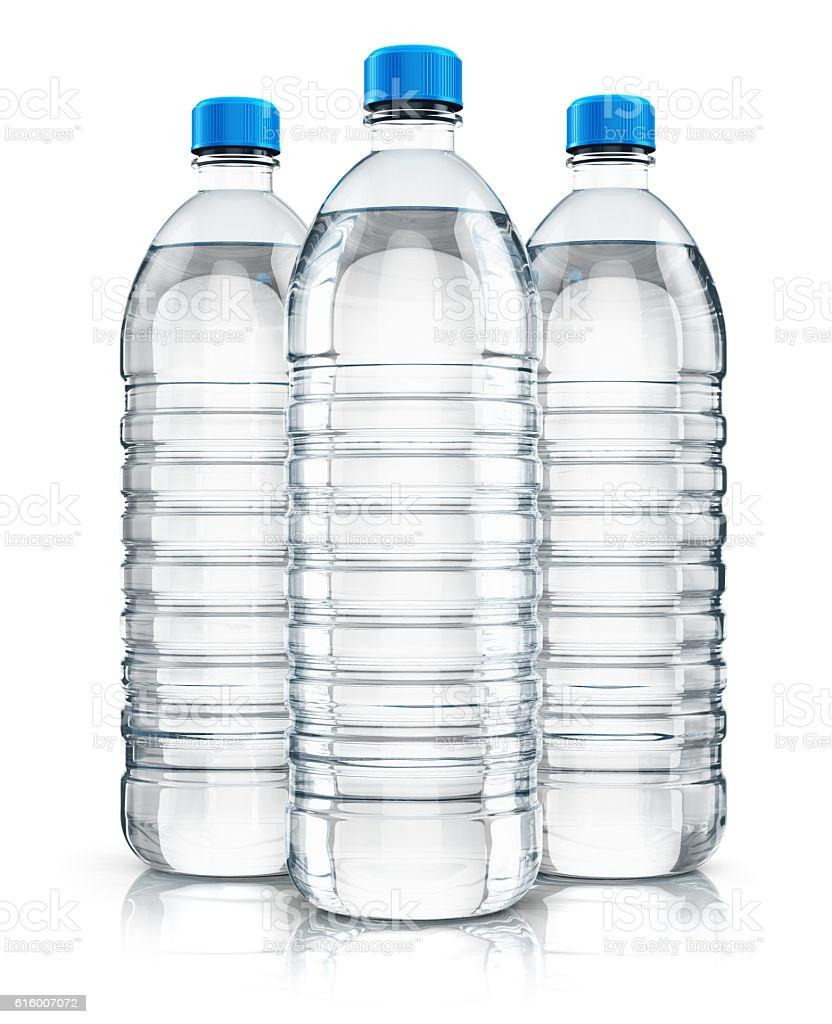bottle: (280, 31, 571, 940), (508, 69, 756, 908), (111, 56, 320, 887)
